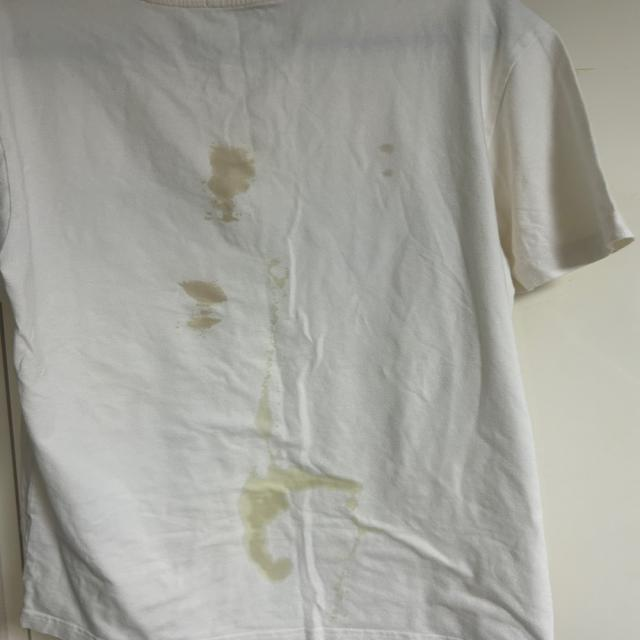stain: (236, 459, 366, 538), (207, 144, 268, 229), (250, 516, 318, 582), (185, 266, 237, 338), (250, 342, 290, 434), (271, 267, 304, 325), (360, 136, 399, 180)
